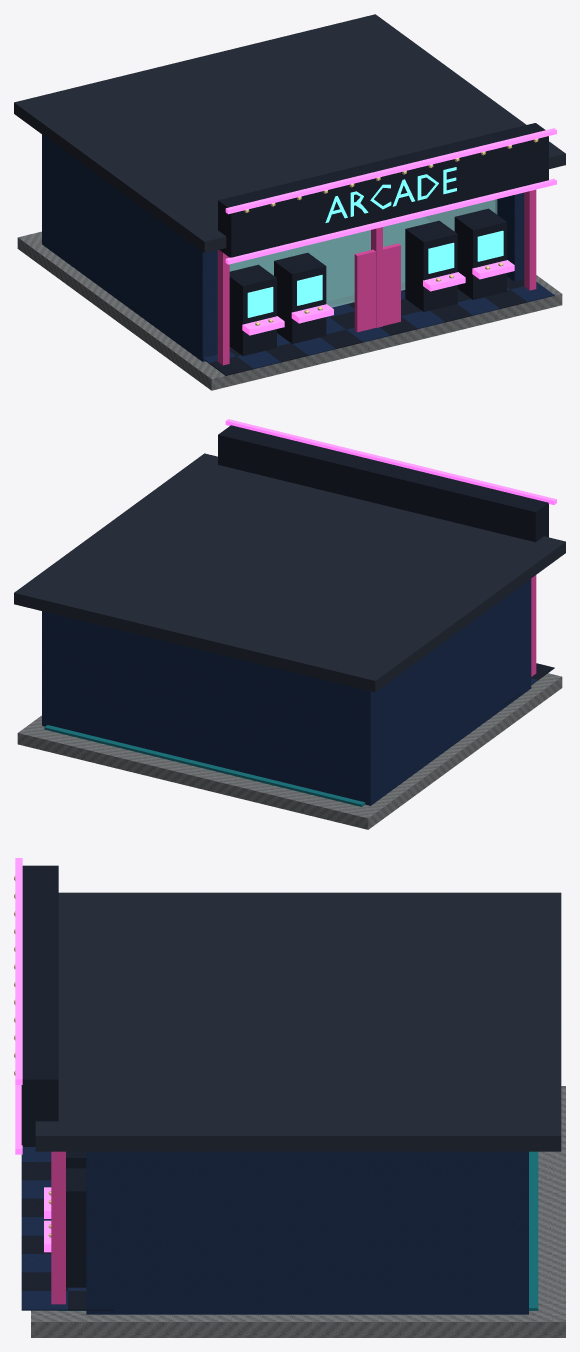
The model's file is arcade.glb.
3 renders of one model, top to bottom at view 1: azimuth 30°, elevation 25°; view 2: azimuth 150°, elevation 25°; view 3: azimuth 270°, elevation 25°, orthographic. The views are drawn at different scales.
Visible parts, largest first — view 1: flat_roof, side_wall, marquee, foundation, window_back, cabinet.002, door, cabinet.003, cabinet.001, cabinet, neon_edge.001, neon_edge (+18 smaller); view 2: flat_roof, rear_wall, side_wall, marquee, foundation, neon_edge.001, floor, front_post; view 3: flat_roof, side_wall.001, foundation, marquee, rear_wall, cabinet.003, front_post.002, neon_edge.001, floor, checker.033, checker.030.
Part boxes in pixels (x1,y1,x2,y2): flat_roof: [14, 14, 565, 253]; side_wall: [48, 140, 217, 361]; marquee: [218, 123, 548, 257]; foundation: [17, 231, 562, 390]; window_back: [229, 199, 497, 307]; cabinet.002: [405, 220, 457, 311]; door: [354, 243, 400, 332]; cabinet.003: [454, 208, 506, 299]; cabinet.001: [274, 252, 326, 343]; cabinet: [229, 264, 276, 355]; neon_edge.001: [225, 128, 556, 214]; neon_edge: [225, 178, 556, 264]; flat_roof: [14, 453, 565, 692]; rear_wall: [42, 611, 380, 805]; side_wall: [377, 579, 531, 800]; marquee: [218, 425, 548, 542]; foundation: [17, 673, 562, 829]; neon_edge.001: [225, 419, 556, 504]; floor: [44, 725, 365, 806]; front_post: [531, 575, 536, 676]; flat_roof: [35, 892, 561, 1151]; side_wall.001: [86, 1151, 510, 1314]; foundation: [31, 1086, 565, 1337]; marquee: [21, 865, 58, 1146]; rear_wall: [501, 1151, 528, 1314]; cabinet.003: [66, 1168, 86, 1287]; front_post.002: [51, 1151, 65, 1304]; neon_edge.001: [15, 858, 22, 1084]; floor: [59, 1151, 538, 1310]; checker.033: [21, 1291, 67, 1310]; checker.030: [21, 1272, 67, 1290].
Size of the model in its own units: 6.6 by 3.18 by 6.33.
Materials: 10 (5 with a texture image).
